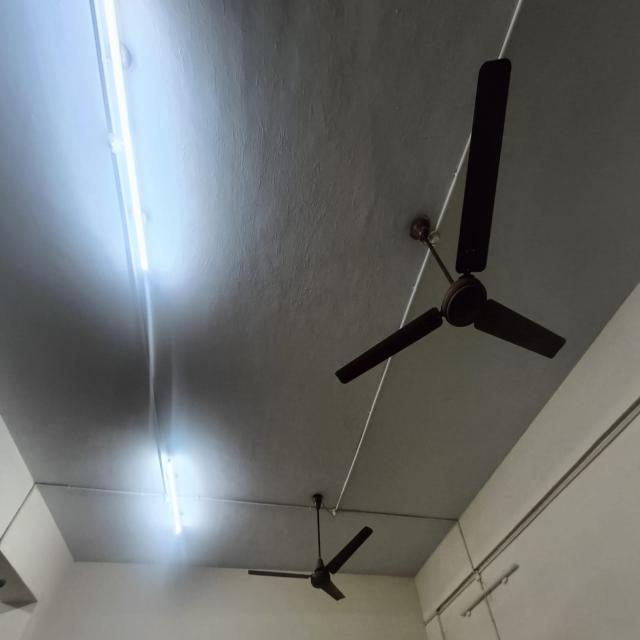fan_off: (334, 55, 567, 387), (246, 526, 373, 607)
tubelight_on: (83, 0, 156, 274), (145, 438, 197, 543)
